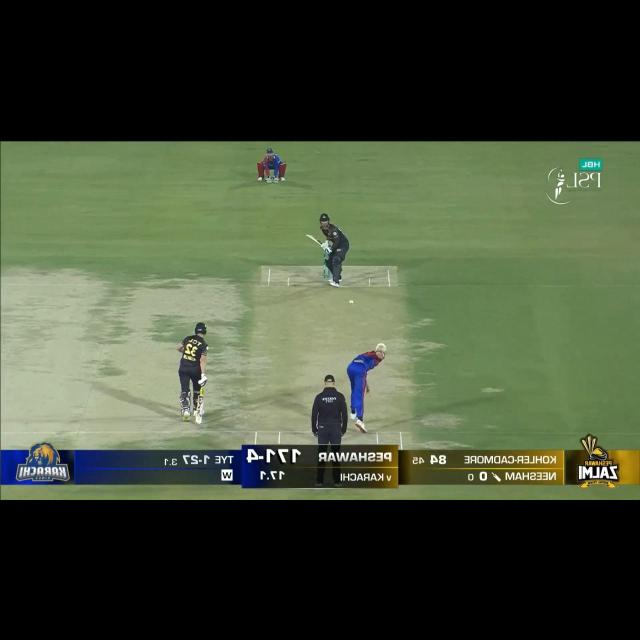bat: (195, 396, 206, 425), (304, 232, 322, 246)
toe: (305, 231, 312, 239), (194, 420, 204, 425)
